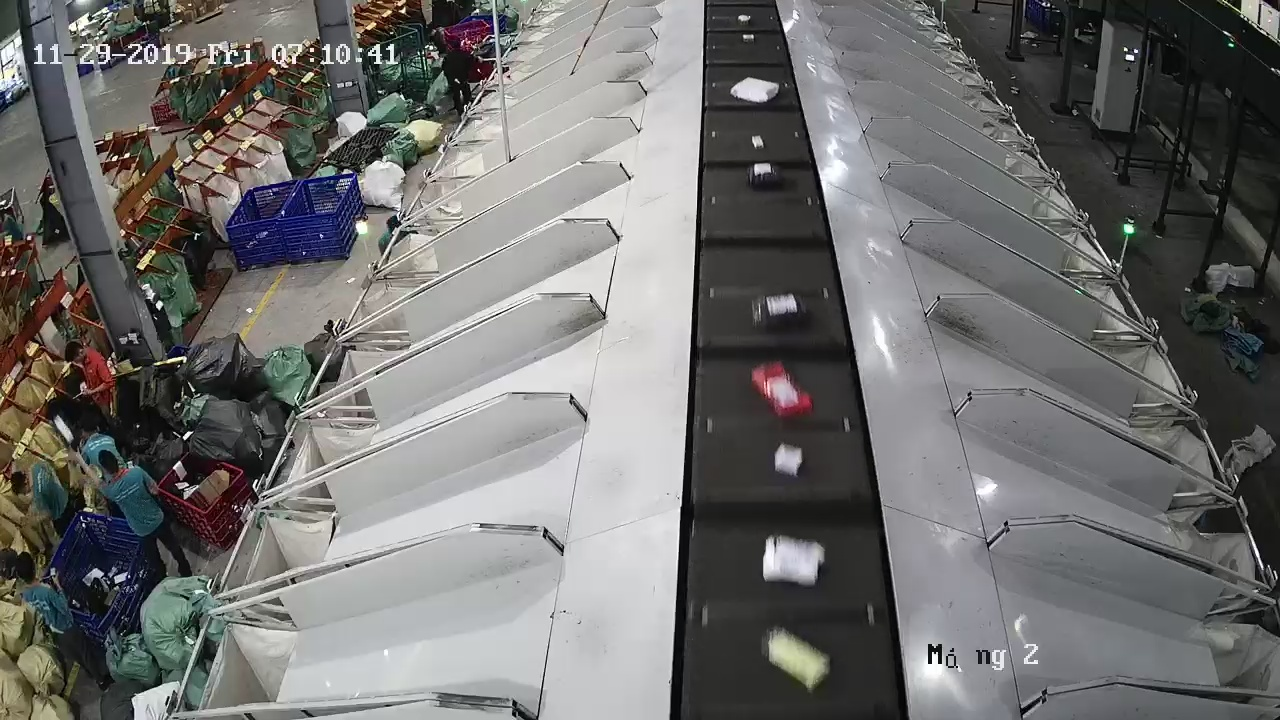parcel: (766, 629, 831, 693), (751, 361, 813, 420), (762, 535, 825, 587), (752, 293, 806, 328), (746, 161, 781, 190), (774, 443, 803, 477), (751, 135, 764, 149)
